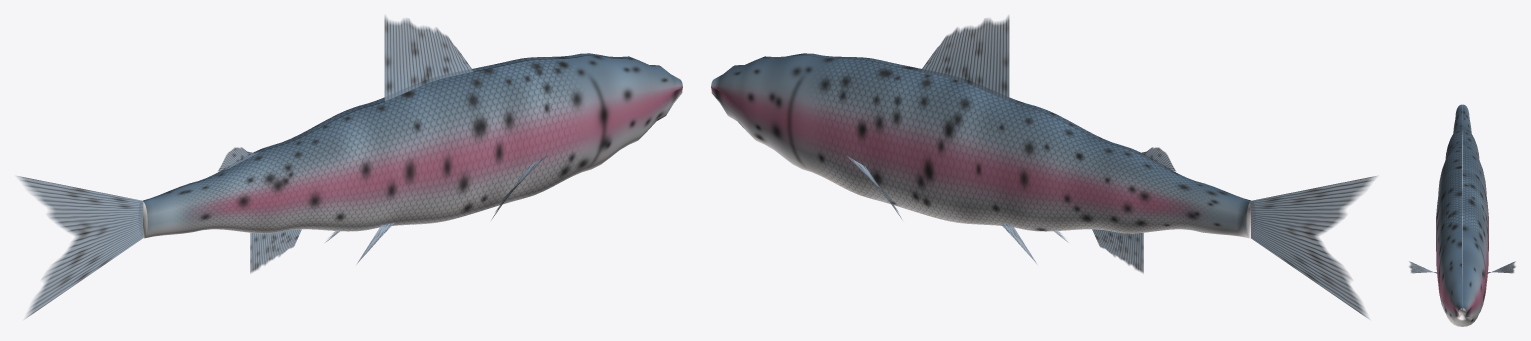
File: forel.glb
3 views of the same model, side by side, from view 1: azimuth 30°, elevation 25°; view 2: azimuth 150°, elevation 25°; view 3: azimuth 270°, elevation 25° (orthographic). The views are drawn at different scales.
Visible parts, largest first — view 1: forel; view 2: forel; view 3: forel.
Part boxes in pixels (x1=…): forel: x1=16, y1=15, x2=682, y2=318; forel: x1=711, y1=15, x2=1377, y2=318; forel: x1=1409, y1=104, x2=1515, y2=326.
Bounding box in the file's own units: 0.5704 × 0.1907 × 0.1074.
Materials: 1 (1 with a texture image).
